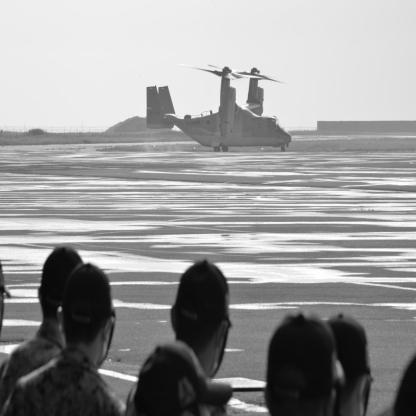V22: (146, 64, 292, 152)
